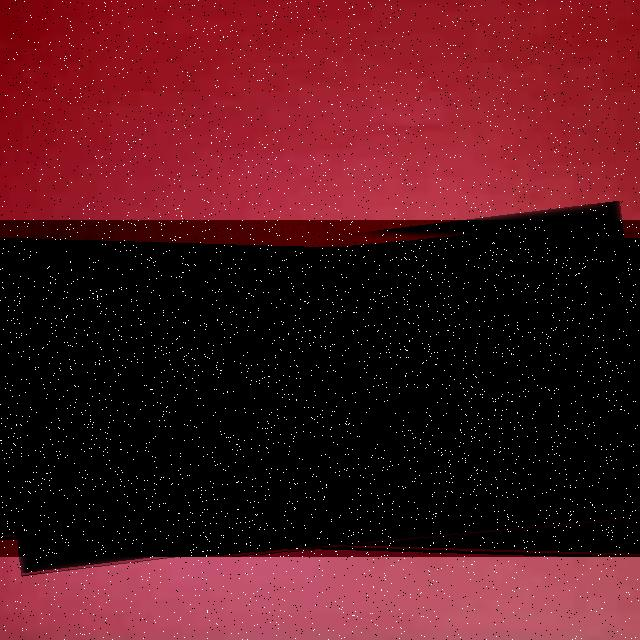lima puluh ribu rupiah: (0, 220, 640, 557)
